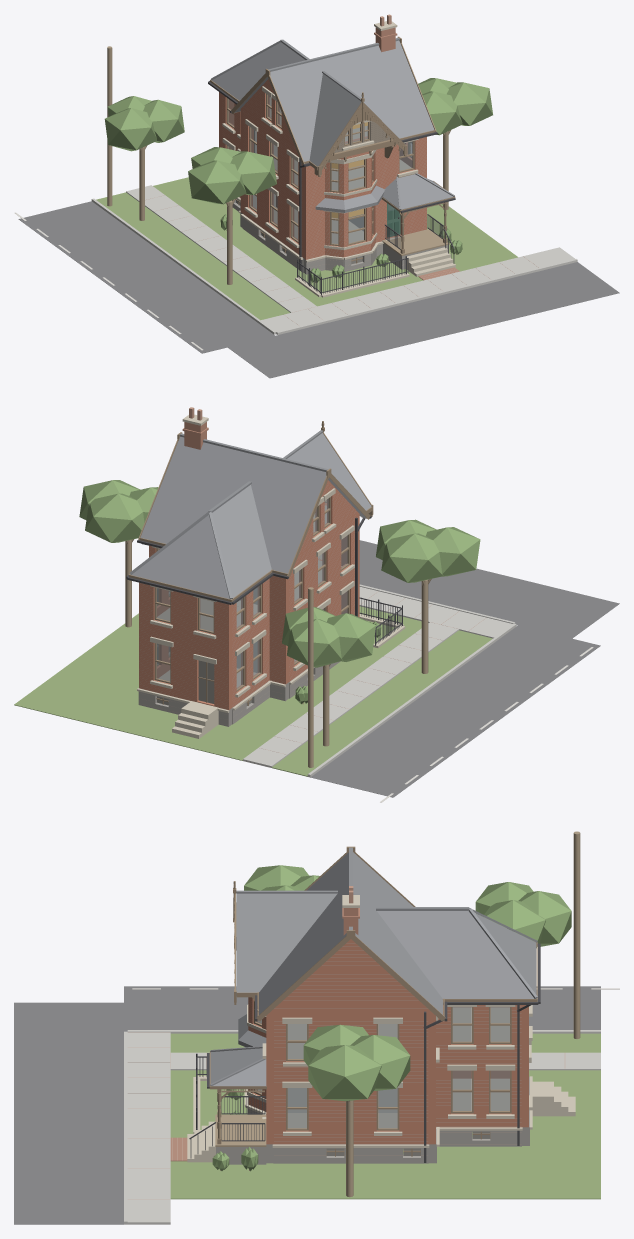
Rendered from clay-toronto-bay-and-gable-house-clay-v004.glb.
The picture shows the model from 3 angles, top to bottom: view 1: azimuth 30°, elevation 25°; view 2: azimuth 150°, elevation 25°; view 3: azimuth 270°, elevation 25°; orthographic projection. The views are drawn at different scales.
Visible parts, largest first — view 1: CLAY_ASPHALT, CLAY_ROOF, CLAY_GRASS, CLAY_WALL, CLAY_PAVING, CLAY_PLANTING, CLAY_TRIM, CLAY_STONE, CLAY_TIMBER, CLAY_GLASS, CLAY_HARDWARE, CLAY_FOUNDATION (+3 smaller); view 2: CLAY_ASPHALT, CLAY_ROOF, CLAY_GRASS, CLAY_WALL, CLAY_PLANTING, CLAY_PAVING, CLAY_TRIM, CLAY_STONE, CLAY_GLASS, CLAY_TIMBER, CLAY_FOUNDATION, CLAY_HARDWARE (+3 smaller); view 3: CLAY_ASPHALT, CLAY_ROOF, CLAY_GRASS, CLAY_WALL, CLAY_PLANTING, CLAY_PAVING, CLAY_STONE, CLAY_TRIM, CLAY_GLASS, CLAY_JOINT, CLAY_FOUNDATION, CLAY_FLOOR (+3 smaller).
Boxes of the visible parts, x1,y1,x2,y2 form: CLAY_ASPHALT: (18, 201, 619, 378); CLAY_ROOF: (211, 37, 454, 212); CLAY_GRASS: (96, 177, 517, 320); CLAY_WALL: (219, 79, 426, 259); CLAY_PAVING: (91, 185, 577, 334); CLAY_PLANTING: (104, 78, 492, 282); CLAY_TRIM: (210, 36, 455, 263); CLAY_STONE: (222, 21, 455, 297); CLAY_TIMBER: (107, 46, 456, 284); CLAY_GLASS: (228, 95, 412, 263); CLAY_HARDWARE: (208, 81, 455, 294); CLAY_FOUNDATION: (232, 197, 448, 274); CLAY_ASPHALT: (310, 540, 619, 797); CLAY_ROOF: (130, 430, 371, 599); CLAY_GRASS: (14, 606, 492, 776); CLAY_WALL: (139, 480, 359, 709); CLAY_PLANTING: (79, 480, 480, 704); CLAY_PAVING: (243, 584, 516, 777); CLAY_TRIM: (129, 421, 373, 705); CLAY_STONE: (137, 414, 405, 738); CLAY_GLASS: (156, 498, 347, 705); CLAY_TIMBER: (125, 539, 431, 767); CLAY_FOUNDATION: (138, 661, 340, 726); CLAY_HARDWARE: (126, 516, 402, 645); CLAY_ASPHALT: (14, 986, 600, 1224); CLAY_ROOF: (210, 847, 537, 1086); CLAY_GRASS: (170, 1033, 600, 1199); CLAY_WALL: (248, 939, 528, 1144); CLAY_PLANTING: (212, 865, 571, 1171); CLAY_PAVING: (124, 1030, 600, 1224); CLAY_STONE: (187, 895, 575, 1162); CLAY_TRIM: (209, 846, 537, 1156); CLAY_GLASS: (256, 1006, 509, 1155); CLAY_JOINT: (128, 943, 565, 1199); CLAY_FOUNDATION: (216, 1076, 529, 1164); CLAY_FLOOR: (257, 1007, 509, 1128).
Bounding box in the file's own units: 23.55 × 12.42 × 25.35.
